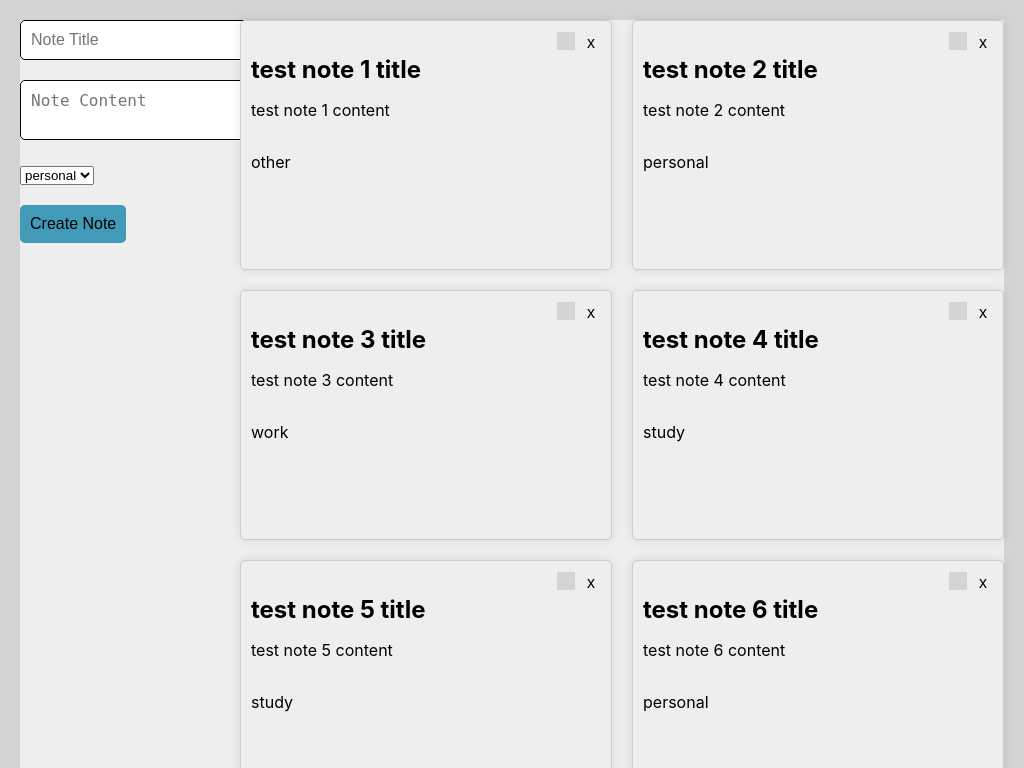
Test: StickyNote Test › creates a new note
Type "New Note" into the field with placeholder "Note Title".
click(134, 40); type("New Note")  # box [20,20,249,60]
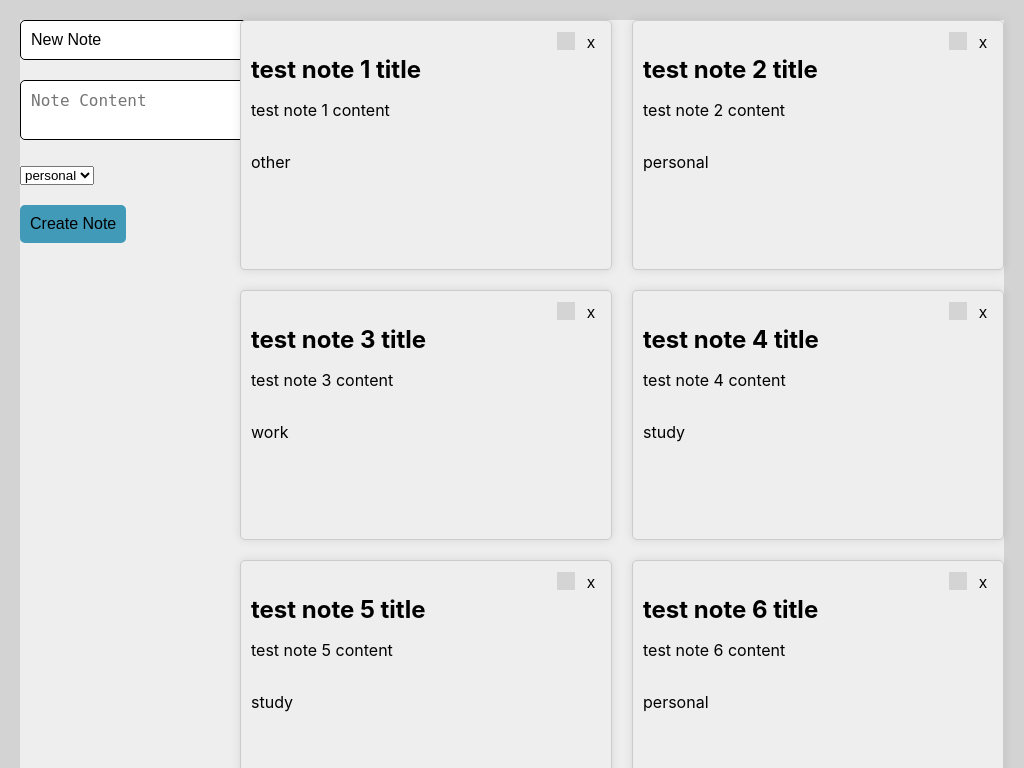
Type "Note content" into the text box with placeholder "Note Content".
click(138, 110); type("Note content")  # box [20,80,257,140]
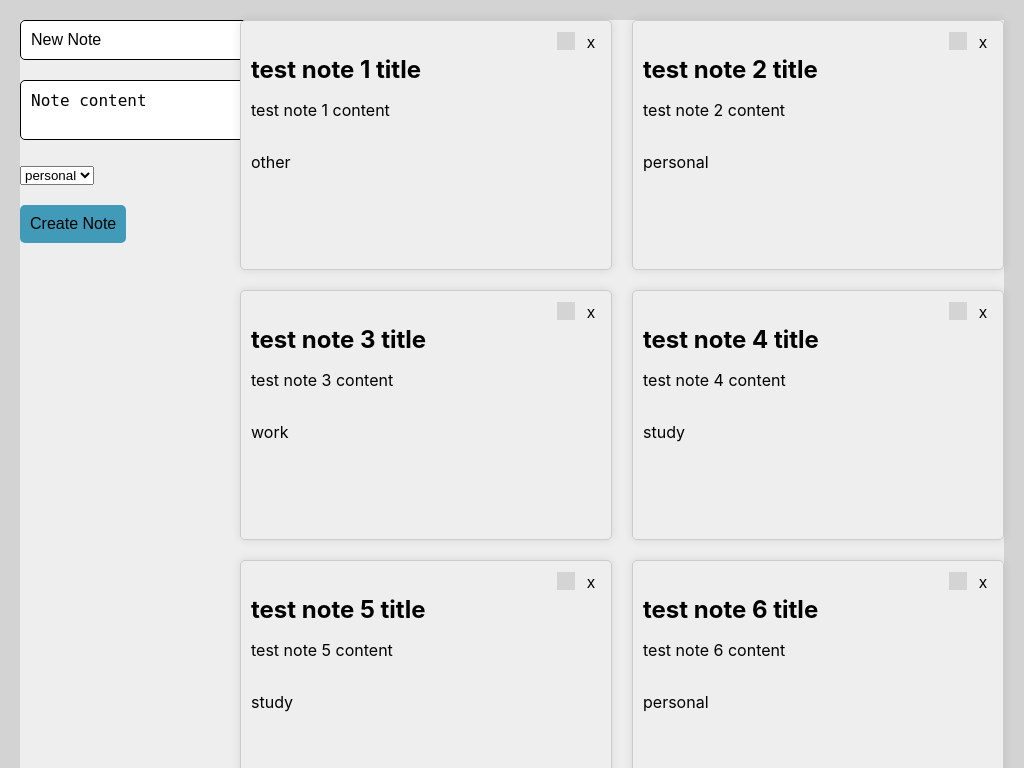
Click the button "Create Note".
click(73, 224)  # box [20,205,126,243]
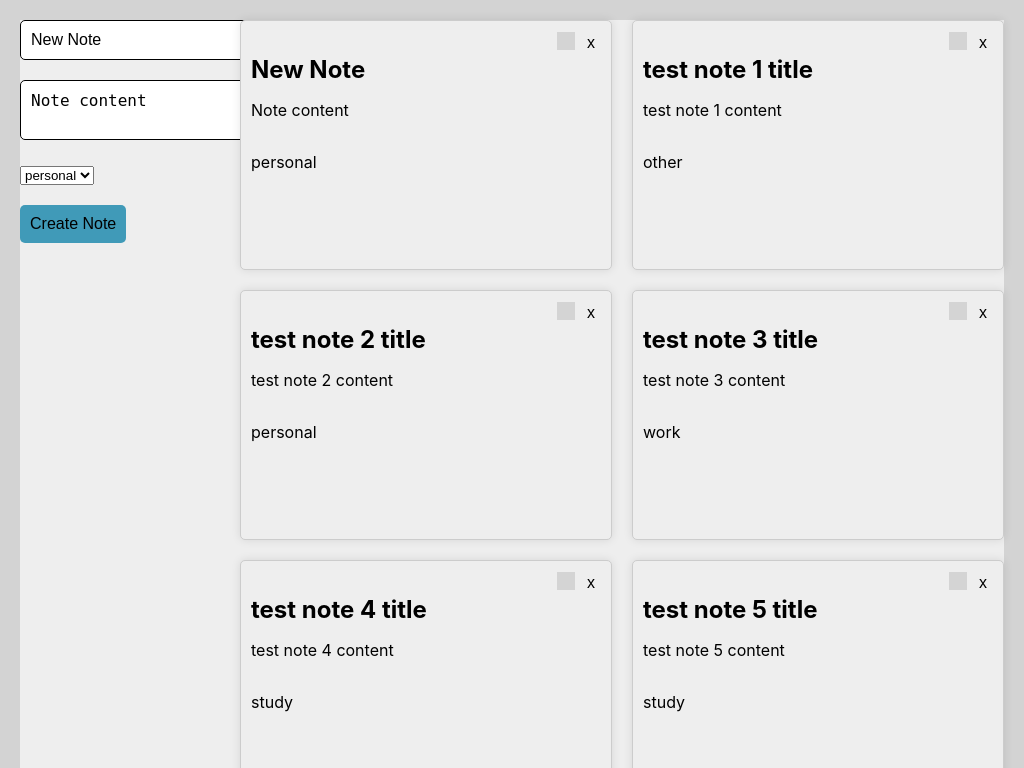
Expected: the heading "New Note" is shown, [251,55,365,84]
Expected: the text box "Note content" is shown, [251,100,349,120]
